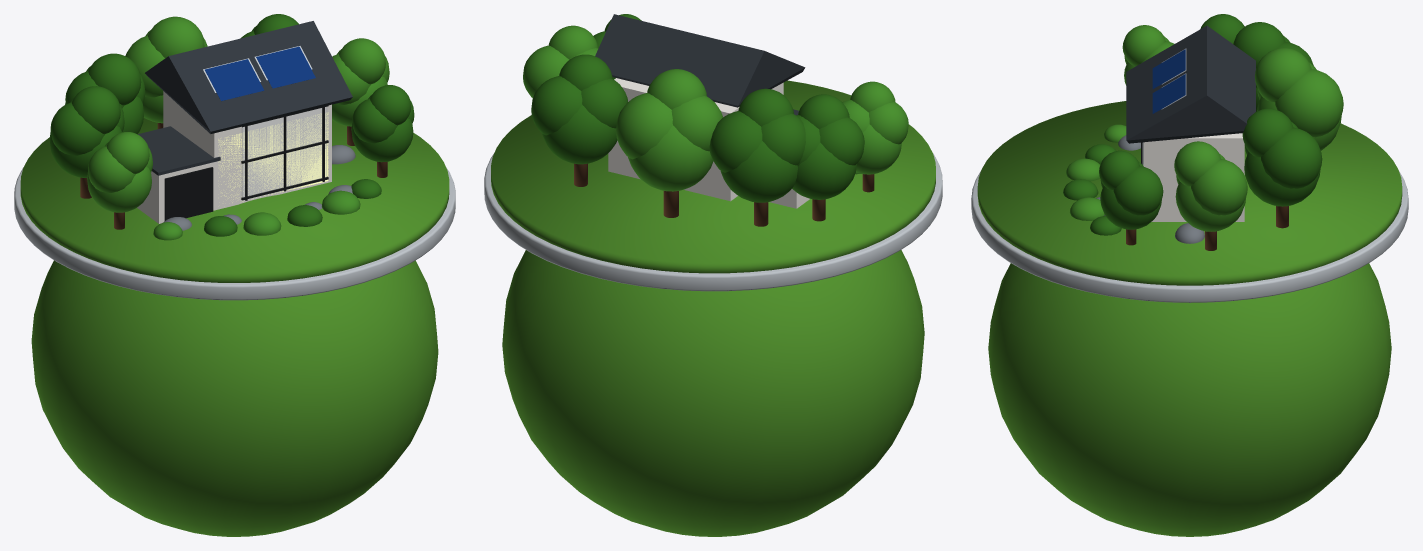
Rendered from solar-house-diorama.glb.
3 views of the same model, side by side, from view 1: azimuth 30°, elevation 25°; view 2: azimuth 150°, elevation 25°; view 3: azimuth 270°, elevation 25° (orthographic). The views are drawn at different scales.
Parts seen in each view (by area): view 1: Grass_Hill, Grass_Base, House_Roof, Pedestal, House_Body, Front_Glass, Indoor_WarmCore, Garage_Door, Garage_Parapet, Tree_BackL_Leaf_3, Tree_LeftMid_Leaf_2, Tree_BackM_Leaf_3 (+22 smaller); view 2: Grass_Hill, Grass_Base, House_Roof, Pedestal, Tree_BackM_Leaf_0, Tree_BackL_Leaf_0, Tree_BackM_Leaf_1, Tree_BackR_Leaf_0, Tree_BackL_Leaf_1, Tree_LeftMid_Leaf_0, House_Body, Tree_BackR_Leaf_1 (+13 smaller); view 3: Grass_Hill, Grass_Base, House_Roof, Pedestal, House_Body, Tree_BackM_Leaf_1, Tree_BackR_Leaf_1, Tree_RightMid_Leaf_1, Tree_BackM_Leaf_3, Tree_RightFront_Leaf_1, Tree_BackR_Leaf_0, Tree_BackR_Leaf_3 (+12 smaller).
Part boxes in pixels (left/top/right/bottom): Grass_Hill: left=31, top=195, right=438, bottom=536; Grass_Base: left=20, top=118, right=449, bottom=282; House_Roof: left=145, top=21, right=352, bottom=133; Pedestal: left=14, top=167, right=455, bottom=300; House_Body: left=163, top=91, right=331, bottom=210; Front_Glass: left=241, top=107, right=327, bottom=200; Indoor_WarmCore: left=218, top=112, right=328, bottom=202; Garage_Door: left=164, top=167, right=213, bottom=220; Garage_Parapet: left=138, top=126, right=220, bottom=175; Tree_BackL_Leaf_3: left=88, top=53, right=141, bottom=105; Tree_LeftMid_Leaf_2: left=50, top=102, right=105, bottom=155; Tree_BackM_Leaf_3: left=148, top=16, right=204, bottom=57; Grass_Hill: left=502, top=250, right=924, bottom=536; Grass_Base: left=491, top=80, right=935, bottom=273; House_Roof: left=595, top=14, right=805, bottom=107; Pedestal: left=484, top=153, right=942, bottom=291; Tree_BackM_Leaf_0: left=628, top=125, right=713, bottom=191; Tree_BackL_Leaf_0: left=720, top=141, right=797, bottom=202; Tree_BackM_Leaf_1: left=616, top=93, right=672, bottom=159; Tree_BackR_Leaf_0: left=542, top=105, right=617, bottom=164; Tree_BackL_Leaf_1: left=709, top=111, right=762, bottom=172; Tree_LeftMid_Leaf_0: left=792, top=143, right=856, bottom=199; House_Body: left=608, top=78, right=783, bottom=201; Tree_BackR_Leaf_1: left=531, top=76, right=582, bottom=135; Grass_Hill: left=988, top=263, right=1391, bottom=536; Grass_Base: left=977, top=101, right=1402, bottom=285; House_Roof: left=1126, top=25, right=1255, bottom=143; Pedestal: left=971, top=171, right=1408, bottom=302; House_Body: left=1143, top=133, right=1244, bottom=221; Tree_BackM_Leaf_1: left=1275, top=69, right=1343, bottom=137; Tree_BackR_Leaf_1: left=1261, top=127, right=1322, bottom=188; Tree_RightMid_Leaf_1: left=1191, top=159, right=1247, bottom=215; Tree_BackM_Leaf_3: left=1255, top=48, right=1311, bottom=102; Tree_RightFront_Leaf_1: left=1113, top=166, right=1163, bottom=215; Tree_BackR_Leaf_0: left=1244, top=152, right=1320, bottom=206; Tree_BackR_Leaf_3: left=1242, top=108, right=1293, bottom=157.
Size of the model in its own units: 10.4 by 12.16 by 10.4.
